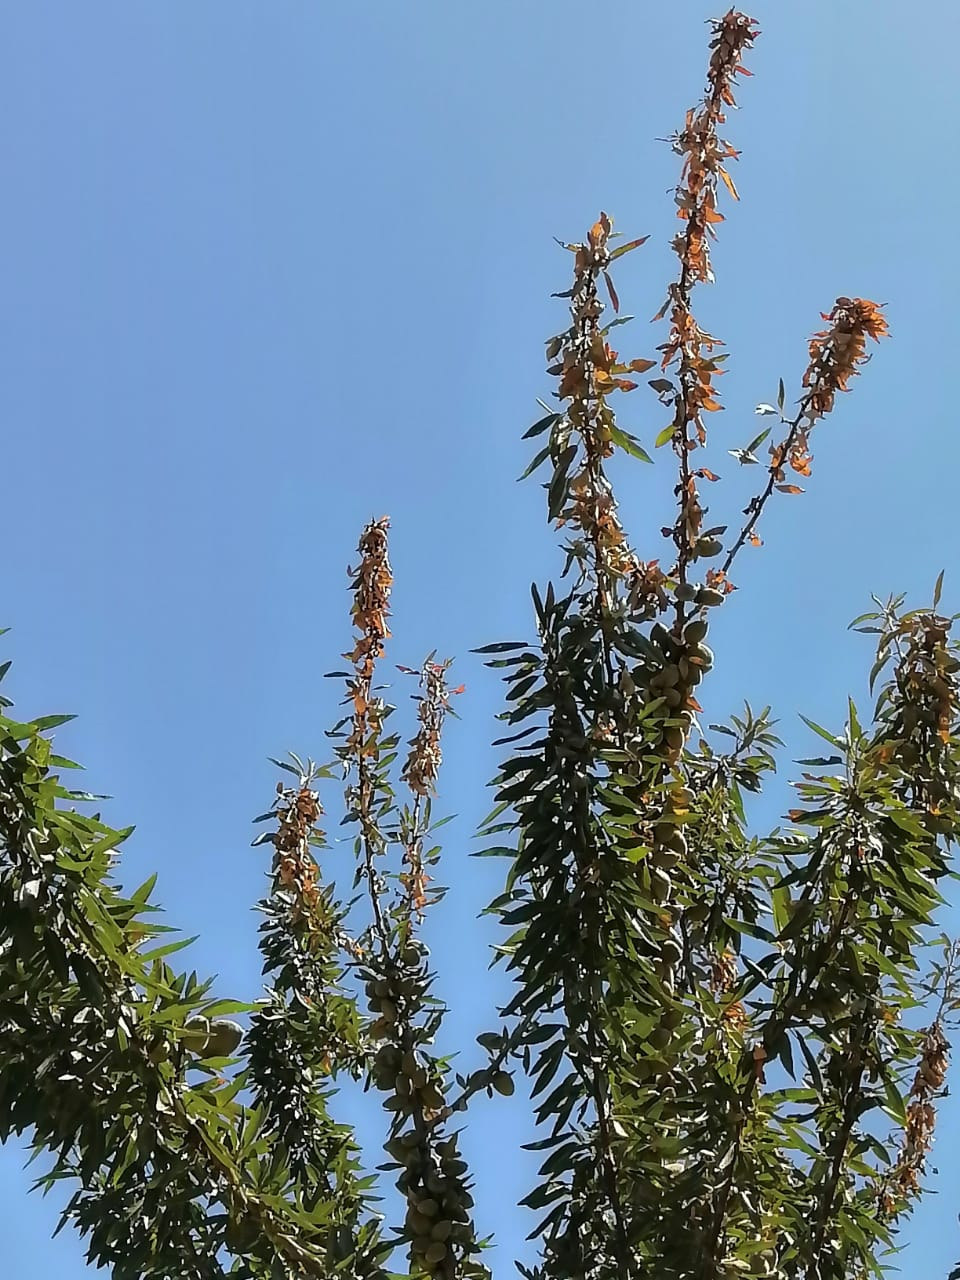scolytes: (692, 296, 896, 603), (656, 7, 761, 453), (525, 213, 645, 590), (336, 513, 401, 852), (394, 650, 463, 910), (264, 773, 338, 922)
